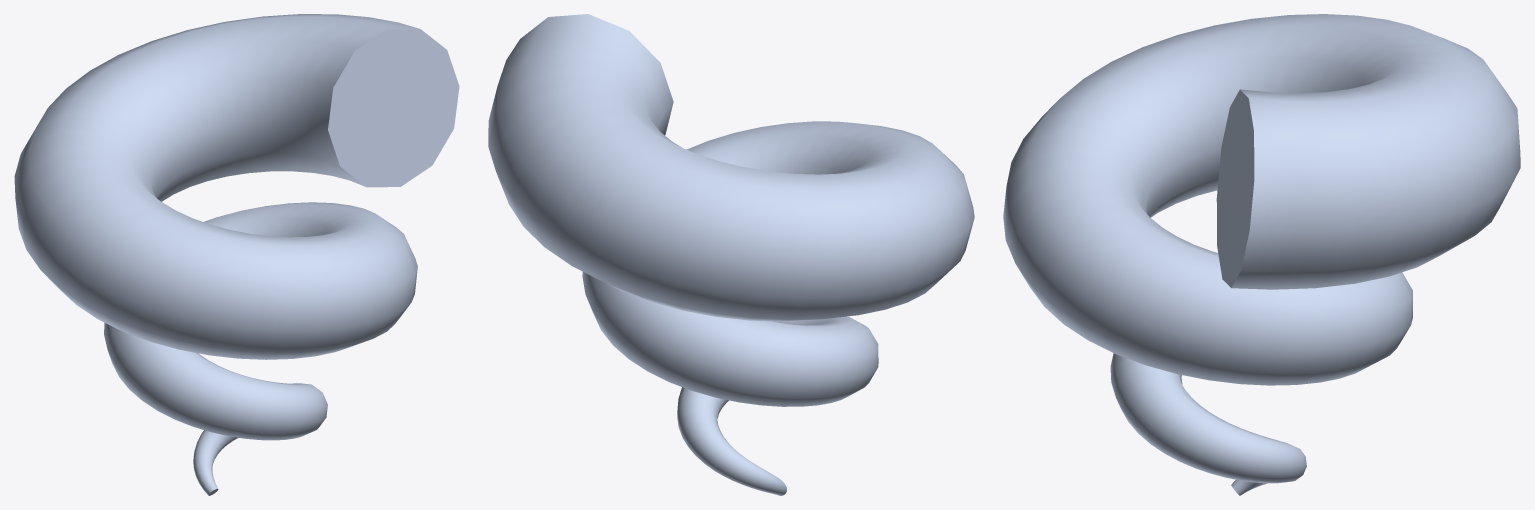
The model's file is magic_conch.glb.
The picture shows the model from 3 angles, left to right: view 1: azimuth 30°, elevation 25°; view 2: azimuth 150°, elevation 25°; view 3: azimuth 270°, elevation 25°; orthographic projection. The views are drawn at different scales.
Bounding box in the file's own units: 16.05 × 15.5 × 14.49.
